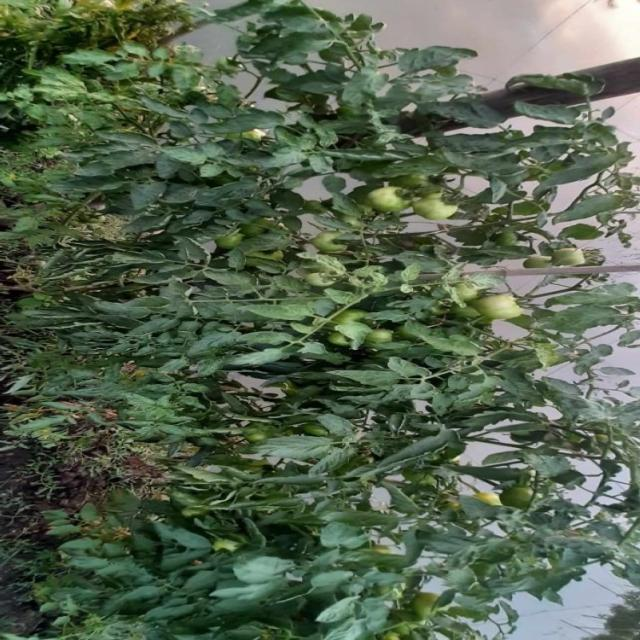tomato: (412, 195, 453, 225), (474, 285, 513, 316), (365, 186, 411, 212), (552, 246, 588, 279), (317, 224, 349, 252), (504, 487, 537, 509), (368, 326, 395, 351), (216, 231, 248, 250)
